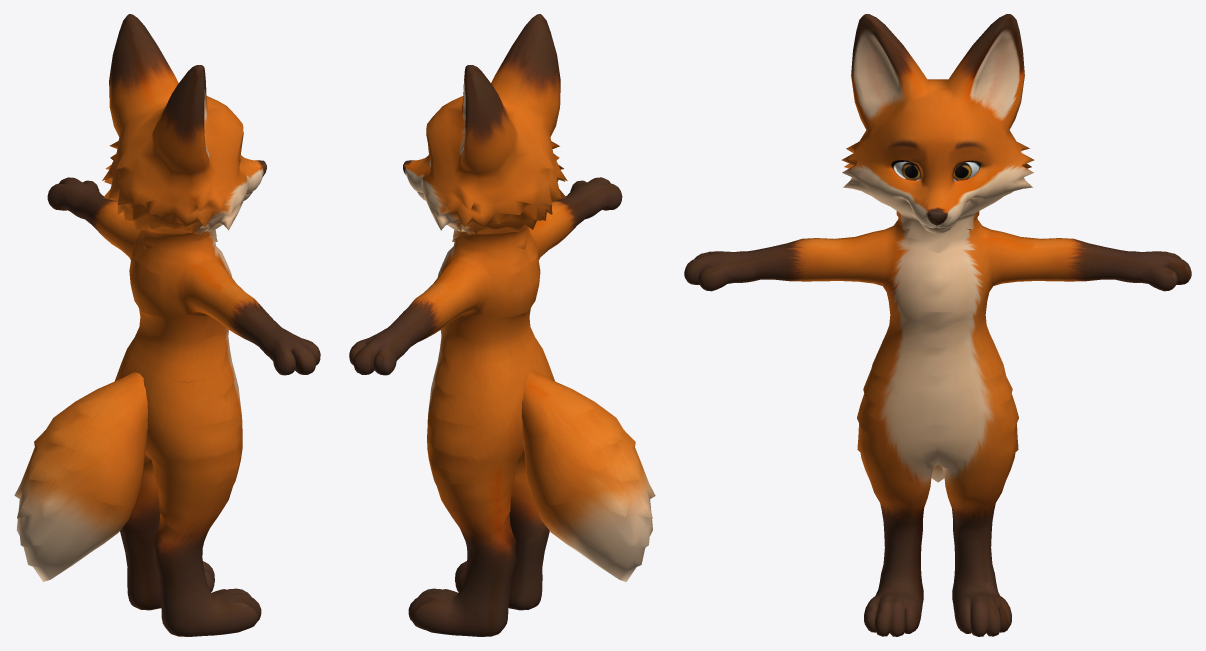
The model's file is fox.fbx.
3 renders of one model, left to right at view 1: azimuth 30°, elevation 25°; view 2: azimuth 150°, elevation 25°; view 3: azimuth 270°, elevation 25°, orthographic. The views are drawn at different scales.
Visible parts, largest first — view 1: tripo_node_a4f84f84; view 2: tripo_node_a4f84f84; view 3: tripo_node_a4f84f84.
Part boxes in pixels (x1,y1,x2,y2): tripo_node_a4f84f84: [14, 14, 320, 636]; tripo_node_a4f84f84: [349, 14, 655, 636]; tripo_node_a4f84f84: [684, 14, 1191, 636].
Size of the model in its own units: 44.97 by 99.95 by 77.69.
1 material, 1 textured.
